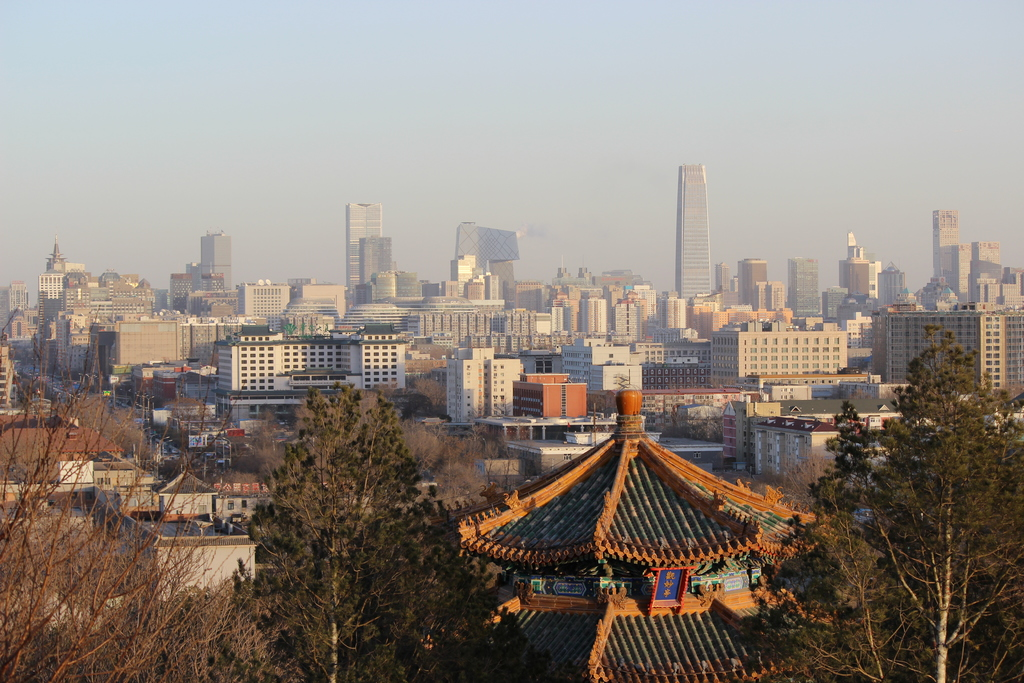Tree: (0, 319, 525, 682), (758, 322, 1023, 682)
